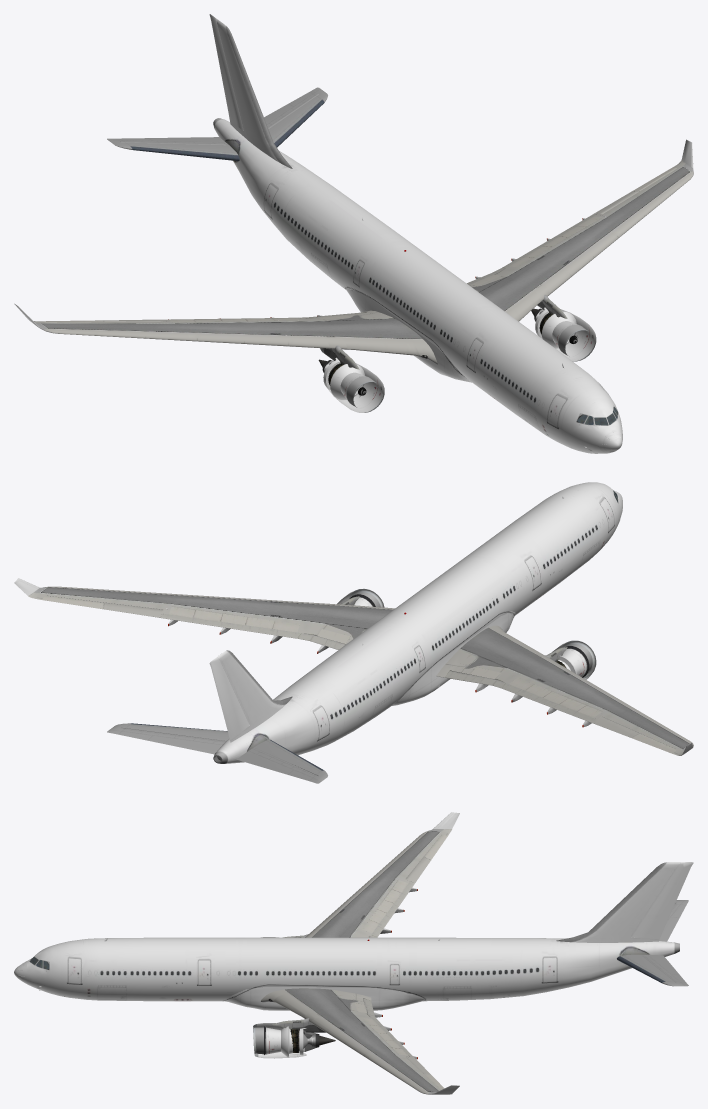
3 views of the same model, one above another, from view 1: azimuth 30°, elevation 25°; view 2: azimuth 150°, elevation 25°; view 3: azimuth 270°, elevation 25° (orthographic). The views are drawn at different scales.
Parts seen in each view (by area): view 1: rudder, RightGearRodDoor, hstab, ge.nacelle1, ge.exhaust.001; view 2: rudder, RightGearRodDoor, hstab, ge.nacelle1; view 3: rudder, RightGearRodDoor, hstab, ge.nacelle1, ge.exhaust.001.
Boxes of the visible parts, x1,y1,x2,y2 form: rudder: (14,14,693,453); RightGearRodDoor: (34,160,693,364); hstab: (107,87,327,161); ge.nacelle1: (323,307,595,412); ge.exhaust.001: (318,294,567,373); rudder: (14,482,693,763); RightGearRodDoor: (28,586,693,755); hstab: (107,723,327,783); ge.nacelle1: (337,591,590,679); rudder: (14,812,693,1094); RightGearRodDoor: (261,829,451,1094); hstab: (617,900,688,986); ge.nacelle1: (256,937,306,1058); ge.exhaust.001: (272,934,335,1051).
Size of the model in its own units: 59.91 by 15.52 by 63.05.
Materials: 15 (12 with a texture image).
